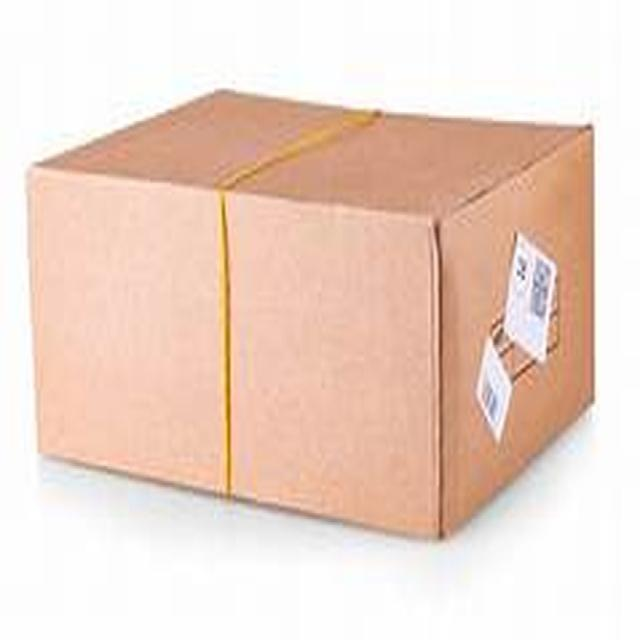box: (26, 75, 601, 559)
